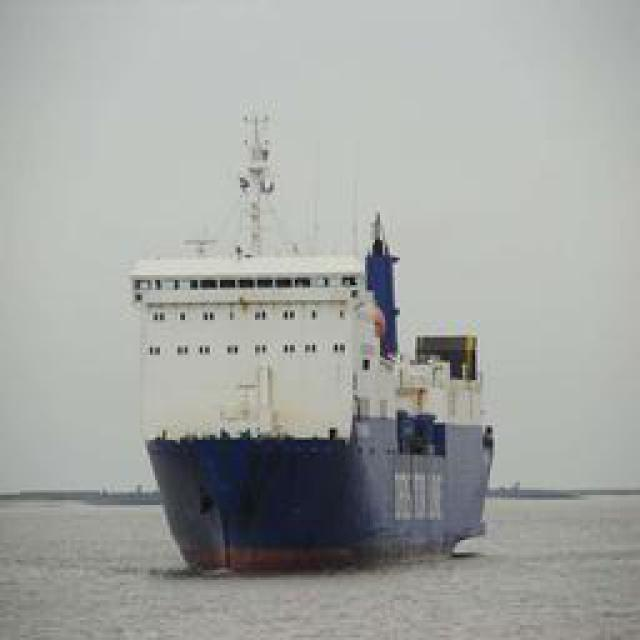Ship: (137, 106, 506, 580)
